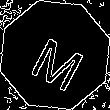M_NE: (23, 22, 87, 88)
